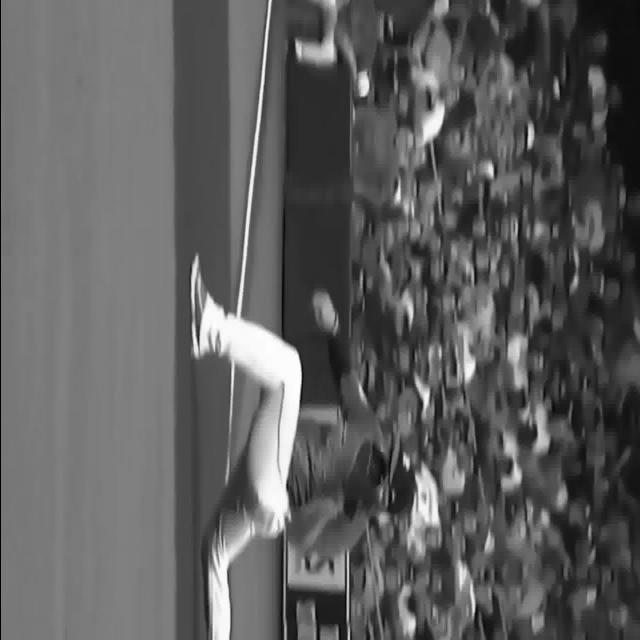baseball: (356, 71, 369, 98)
baseball_glove: (342, 441, 387, 517)
shoe: (188, 252, 210, 359)
